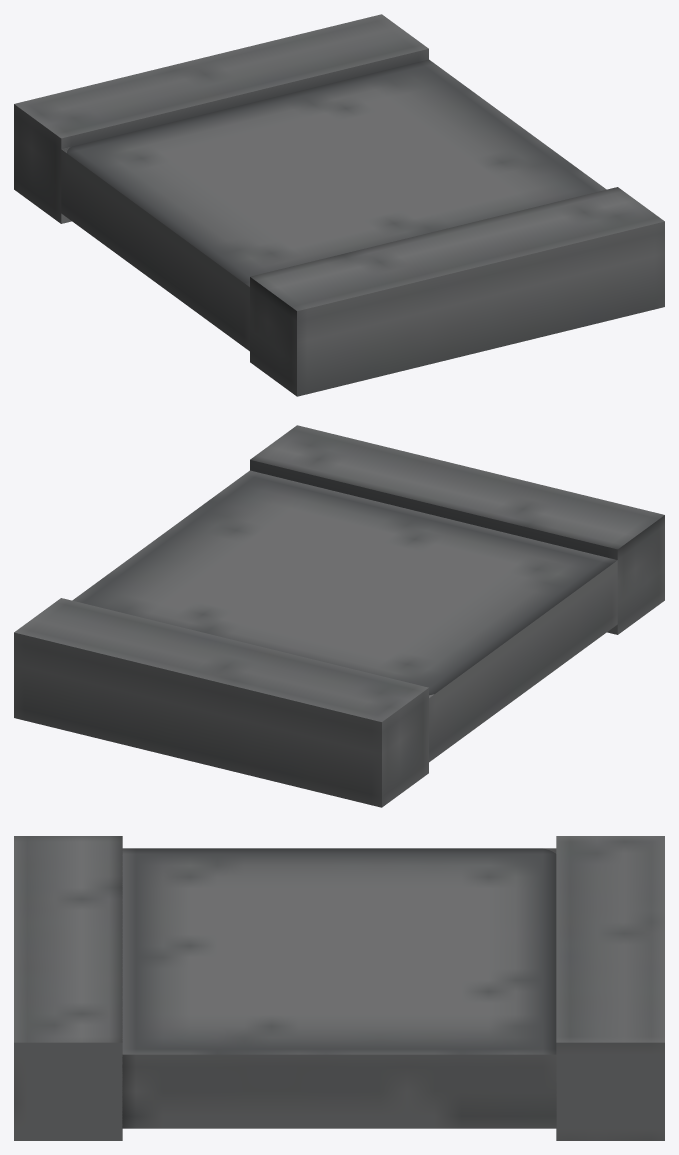
File: sidewalk (1).fbx
The picture shows the model from 3 angles, top to bottom: view 1: azimuth 30°, elevation 25°; view 2: azimuth 150°, elevation 25°; view 3: azimuth 270°, elevation 25°; orthographic projection. The views are drawn at different scales.
Visible parts, largest first — view 1: cuboid, cuboid_1, cuboid_2; view 2: cuboid, cuboid_2, cuboid_1; view 3: cuboid, cuboid_1, cuboid_2.
Part boxes in pixels (box(x1,y1,x2,y2)): cuboid: box(61, 59, 606, 351); cuboid_1: box(250, 187, 664, 396); cuboid_2: box(14, 14, 428, 223); cuboid: box(72, 470, 617, 762); cuboid_2: box(14, 598, 428, 807); cuboid_1: box(250, 425, 664, 634); cuboid: box(122, 848, 556, 1128); cuboid_1: box(14, 836, 122, 1140); cuboid_2: box(556, 836, 664, 1140).
Size of the model in its own units: 225 by 50 by 300.
1 material, 1 textured.
